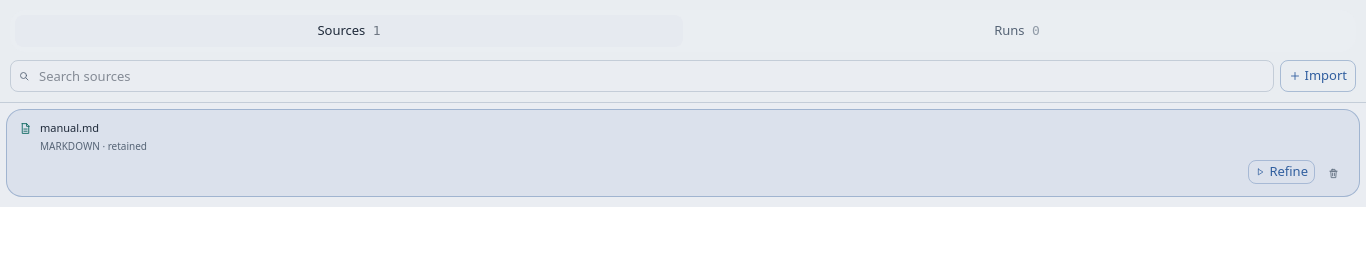
KnowledgeRefineryLibraryView › does not send when creating the new conversation fails
Click the button "Refine" at (1282, 172), box left=1248, top=160, right=1315, bottom=184
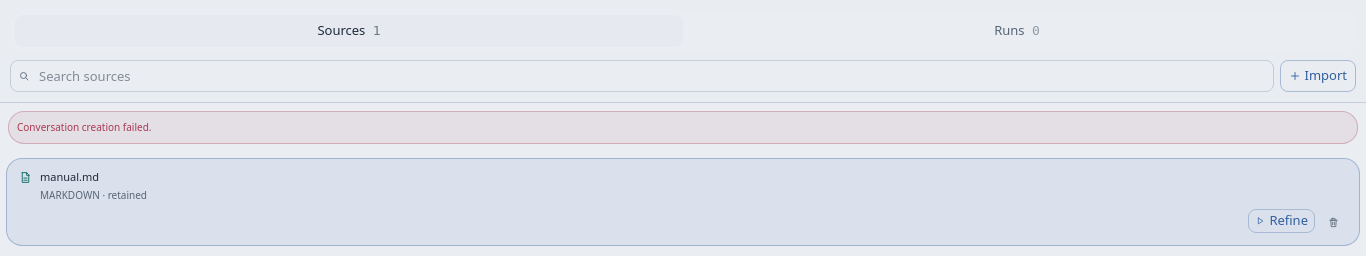
Expected: the message reads "Conversation creation failed.", left=17, top=120, right=152, bottom=134
